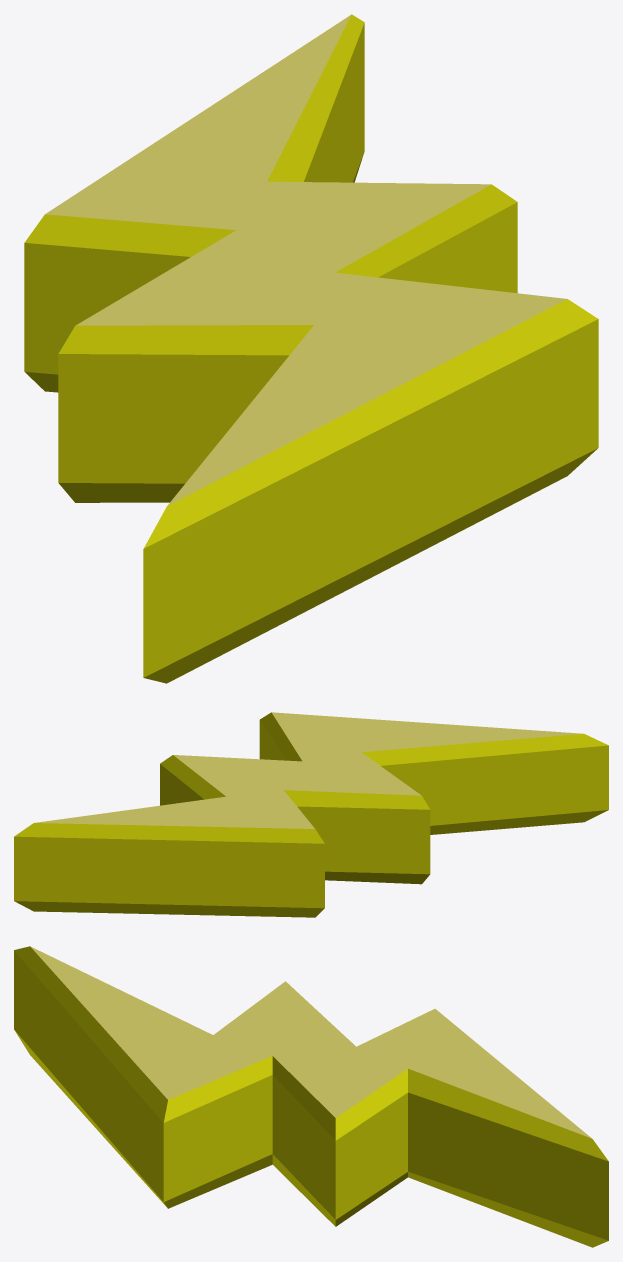
File: lightningBoltFbx.fbx
The picture shows the model from 3 angles, top to bottom: view 1: azimuth 30°, elevation 25°; view 2: azimuth 150°, elevation 25°; view 3: azimuth 270°, elevation 25°; orthographic projection. The views are drawn at different scales.
Parts seen in each view (by area): view 1: lightnigbolMesh; view 2: lightnigbolMesh; view 3: lightnigbolMesh.
Part boxes in pixels (x1,y1,x2,y2): lightnigbolMesh: [24, 14, 598, 683]; lightnigbolMesh: [14, 712, 608, 917]; lightnigbolMesh: [14, 946, 608, 1247].
Bounding box in the file's own units: 9.64 × 2.31 × 11.47.
